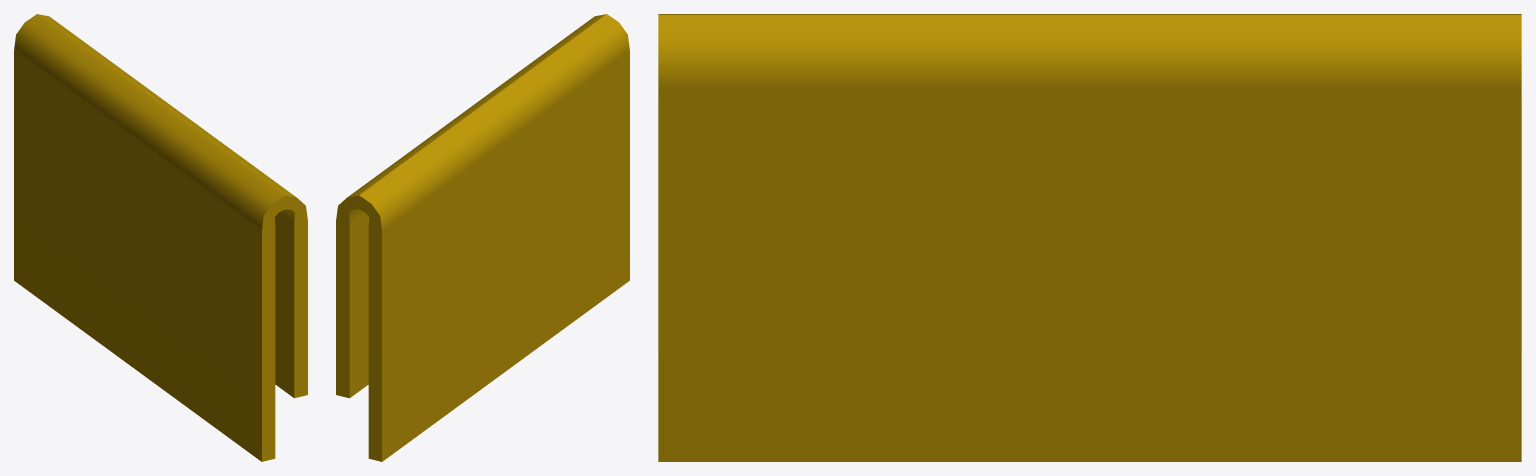
Rendered from Bath_towel_01.fbx.
3 views of the same model, side by side, from view 1: azimuth 30°, elevation 25°; view 2: azimuth 150°, elevation 25°; view 3: azimuth 270°, elevation 25° (orthographic). The views are drawn at different scales.
Parts seen in each view (by area): view 1: Bath_towel_01; view 2: Bath_towel_01; view 3: Bath_towel_01.
Part boxes in pixels (x1=…): Bath_towel_01: x1=14, y1=14, x2=307, y2=461; Bath_towel_01: x1=336, y1=14, x2=629, y2=461; Bath_towel_01: x1=658, y1=14, x2=1521, y2=461.
Size of the model in its own units: 36.54 by 198 by 340.
